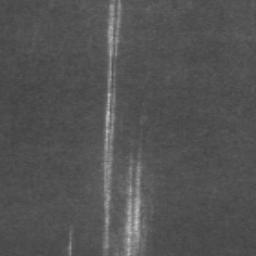Bright scratch: (103, 0, 122, 256), (126, 157, 141, 256), (68, 230, 72, 256)
